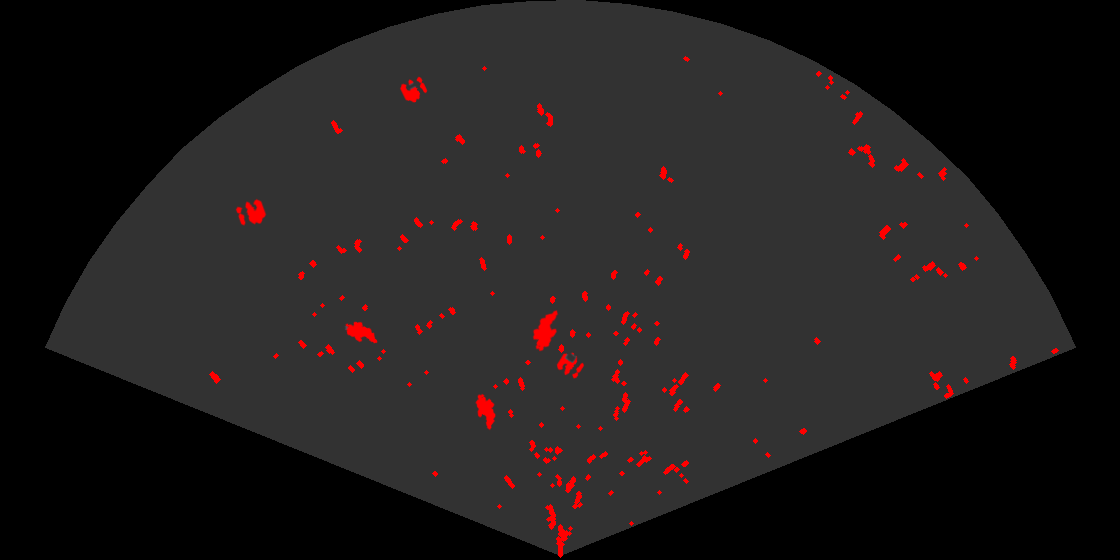AUV: (531, 308, 560, 353), (474, 392, 497, 432), (344, 320, 379, 345)
ball: (234, 197, 268, 227), (555, 351, 586, 380), (398, 75, 429, 104)
